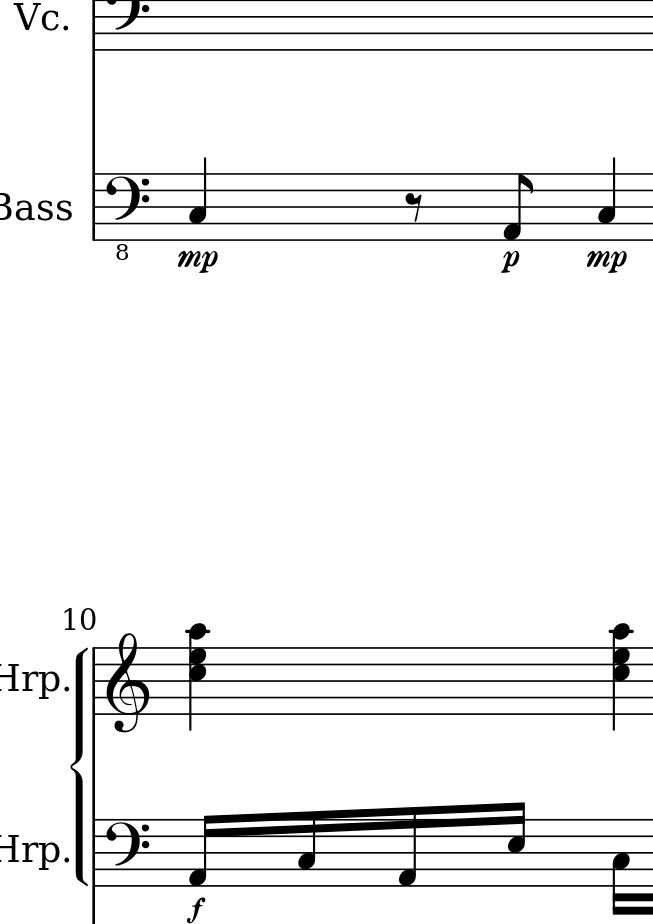0: (80, 606, 95, 632)
1: (62, 605, 76, 633)
16_1: (185, 813, 217, 889)
16_3: (610, 818, 631, 918), (296, 810, 318, 888)
16_5: (508, 800, 527, 888)
4_3: (597, 159, 618, 242), (187, 159, 209, 234)
4_th: (186, 622, 211, 730), (612, 621, 634, 731)
8_1: (501, 171, 534, 243), (395, 805, 418, 889)
Bass: (1, 191, 73, 221)
Brace: (70, 648, 90, 891)
Fclef: (102, 817, 151, 887)
Gclef: (105, 630, 149, 734)
Hrp: (1, 660, 59, 701), (1, 834, 63, 871)
Lower_Fclef: (105, 173, 150, 266)
Rests8: (403, 190, 428, 223)
Single_barline: (87, 649, 103, 714), (88, 173, 102, 240), (88, 820, 102, 884)
f: (185, 896, 208, 924)
mp: (175, 247, 222, 278), (584, 247, 629, 278)
p: (498, 249, 522, 277)
